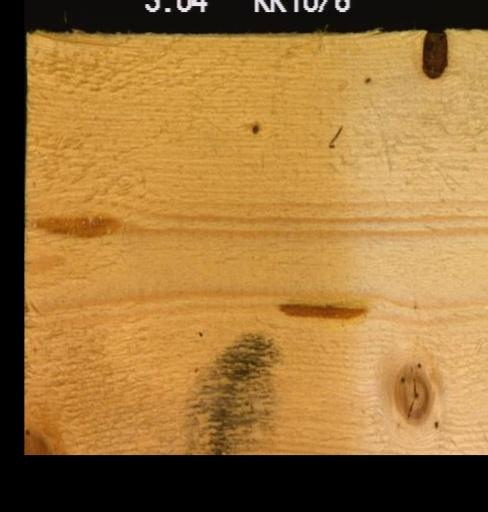edge_knot: (24, 428, 56, 454)
small_knot: (250, 122, 258, 134)
sound_knot: (391, 358, 434, 426)
